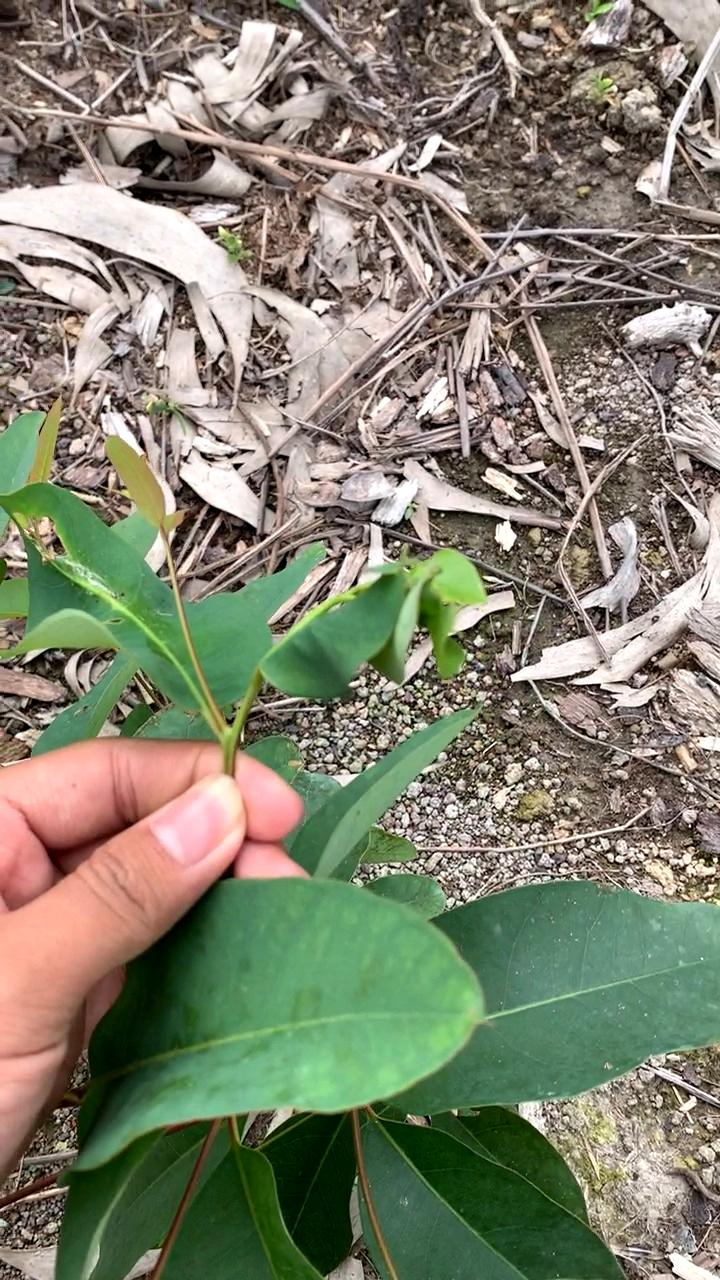Leaf Roller - Leaf: (263, 558, 507, 683)
